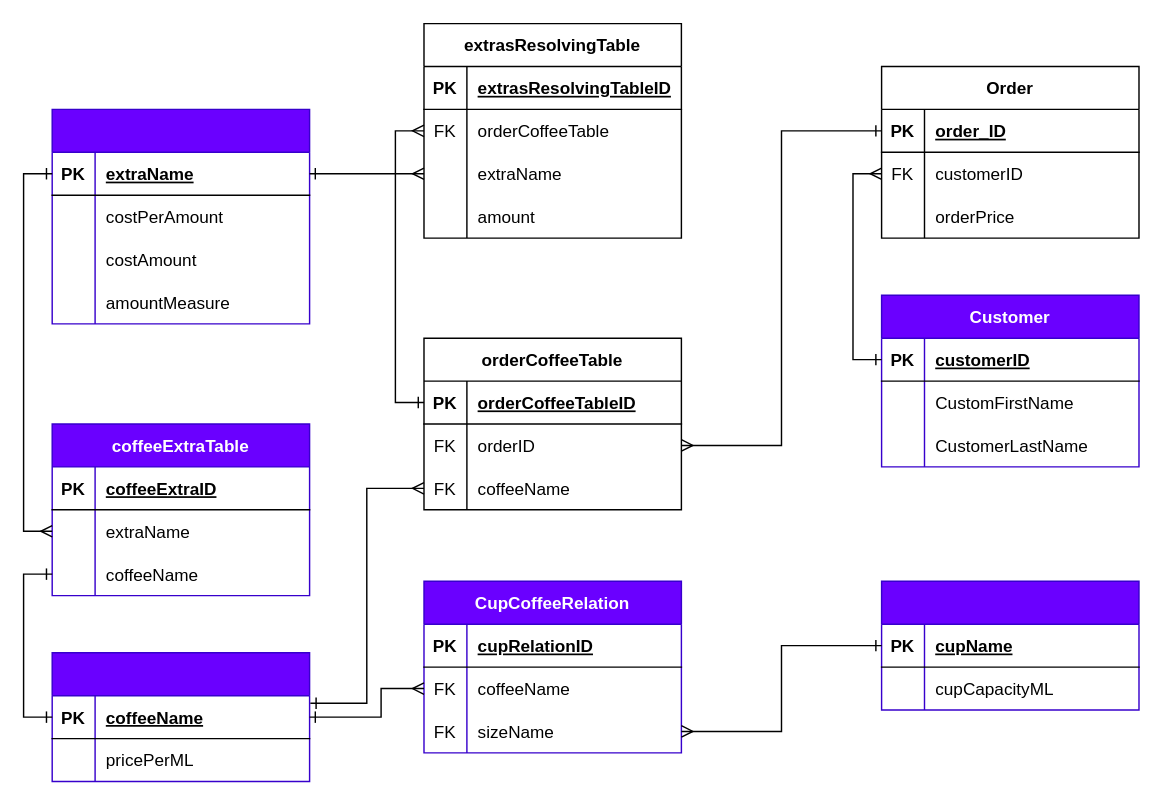
Image size: 1163x805. Some labels were removed from this diagram. Each missing label, with the box of its shape:
Coffees: (51, 651, 310, 781)
cupSizes: (880, 580, 1139, 710)
Extras: (51, 108, 310, 324)
